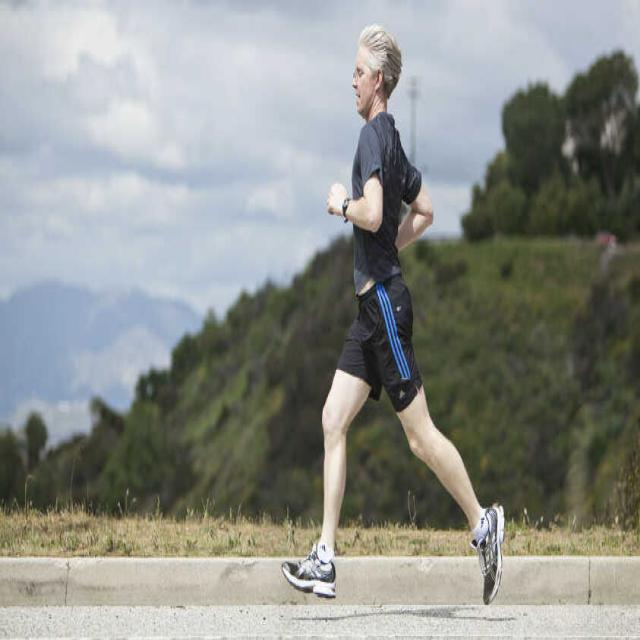running: (278, 23, 507, 604)
